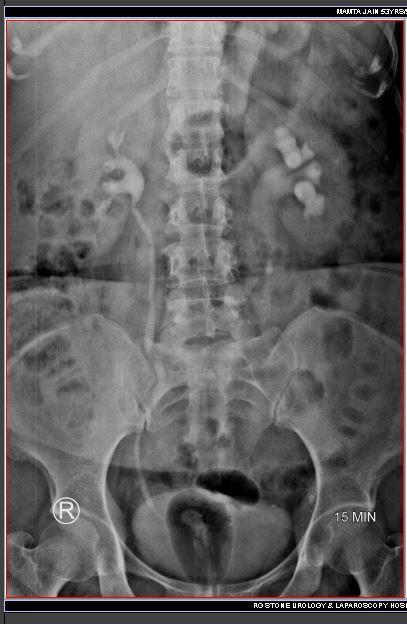bladder: (118, 493, 303, 598)
left kidney: (238, 88, 360, 264)
right kidney: (66, 79, 156, 262)
vertebrae: (162, 94, 225, 146)
